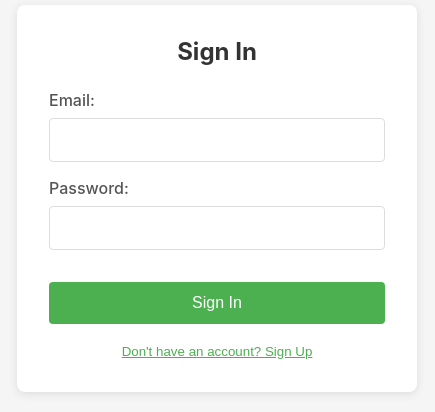
it: Login Component › disables the submit button while the request is loading
Type "test@example.com" into the field labelled "Email:" at {"x": 217, "y": 140}, box [49,118,385,162]
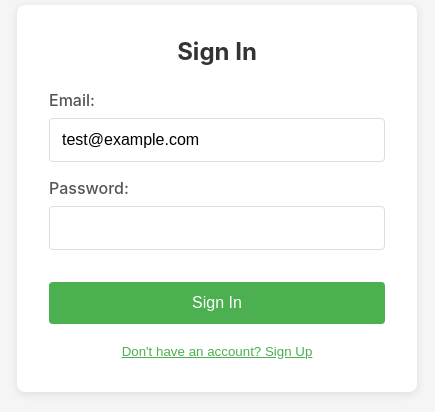
Type "123456" into the password field labelled "Password:" at {"x": 217, "y": 228}, box [49,206,385,250]
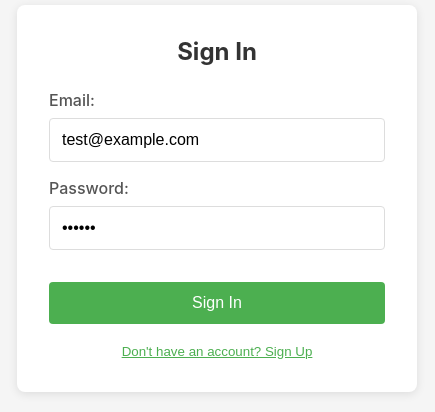
Click the button "Sign In" at {"x": 217, "y": 302}, box [49,282,385,324]
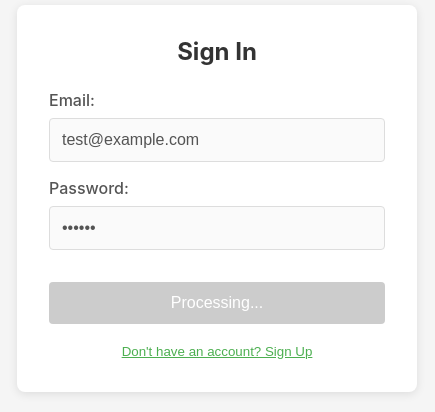
Expected: the button named "sign in" is disabled, [49,282,385,324]
